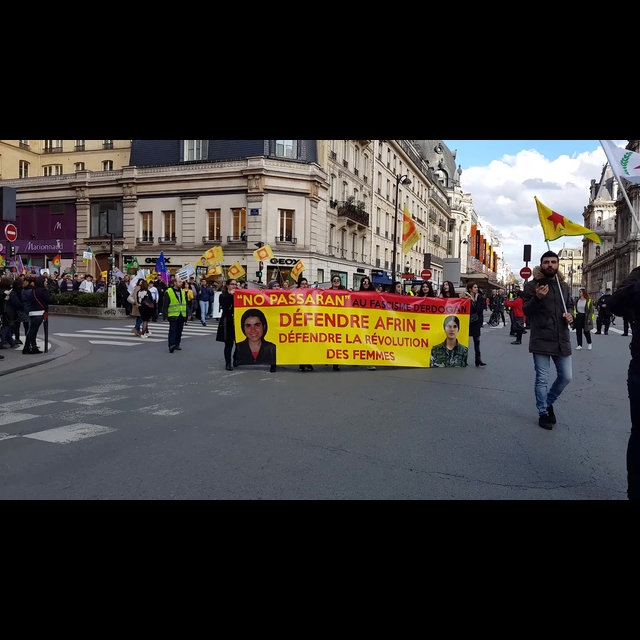YPG: (531, 194, 604, 245)
